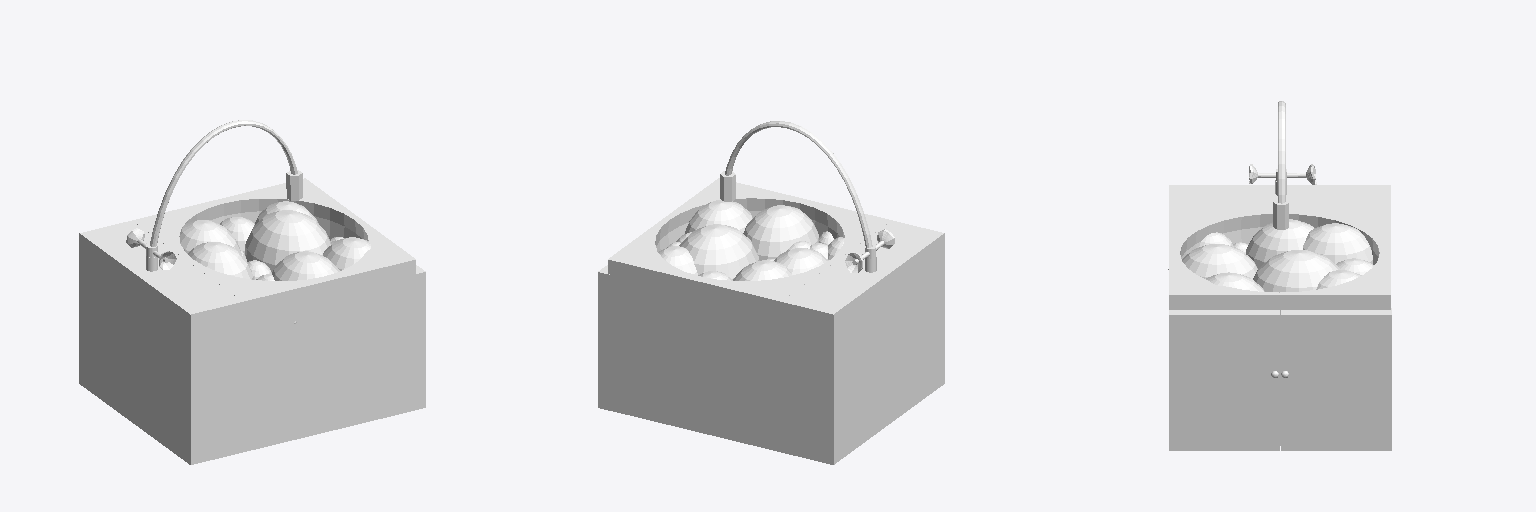
Rendered from ready_kran.obj.
3 views of the same model, side by side, from view 1: azimuth 30°, elevation 25°; view 2: azimuth 150°, elevation 25°; view 3: azimuth 270°, elevation 25° (orthographic).
Visible parts, largest first — view 1: Box001; view 2: Box001; view 3: Box001.
Boxes of the visible parts, x1=… form: Box001: x1=79, y1=120, x2=425, y2=464; Box001: x1=598, y1=121, x2=944, y2=464; Box001: x1=1168, y1=101, x2=1391, y2=450.
Bounding box in the file's own units: 191 × 210 × 153.